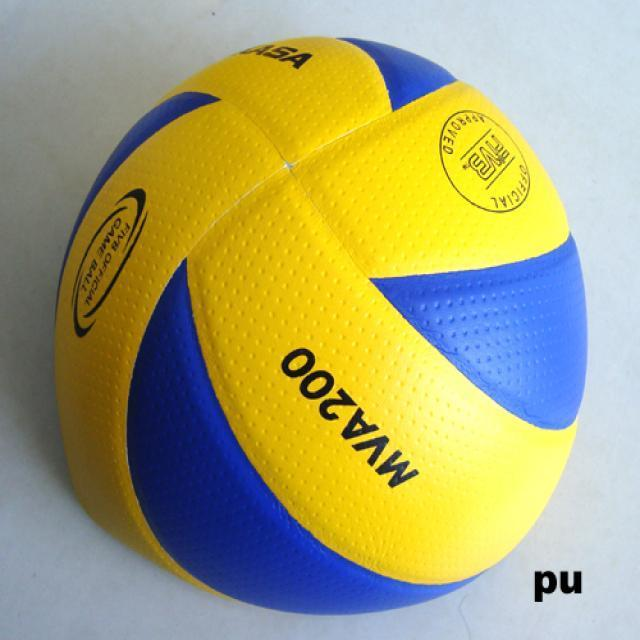volleyball: (52, 37, 590, 616)
